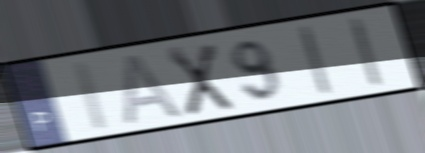9: (228, 36, 283, 103)
A: (123, 51, 187, 127)
I: (70, 58, 113, 134), (346, 14, 386, 91), (296, 22, 335, 99)
X: (163, 41, 236, 119)
